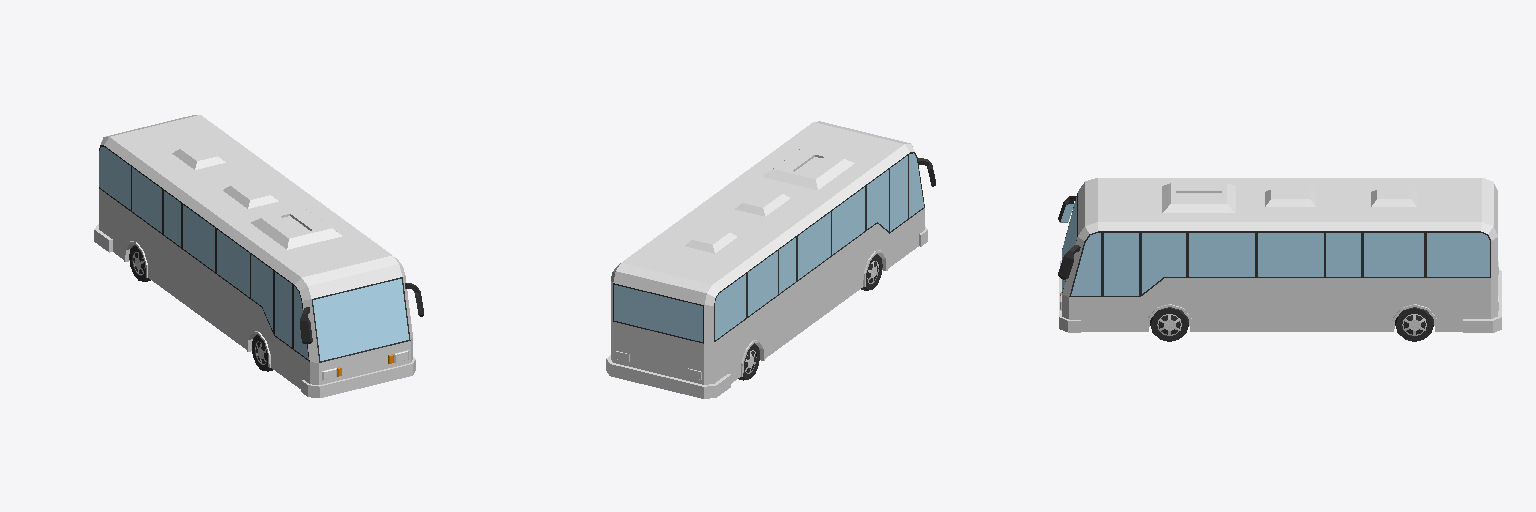
3 renders of one model, left to right at view 1: azimuth 30°, elevation 25°; view 2: azimuth 150°, elevation 25°; view 3: azimuth 270°, elevation 25°, orthographic.
Parts seen in each view (by area): view 1: Bus; view 2: Bus; view 3: Bus.
Part boxes in pixels (left/top/right/bottom): Bus: left=94, top=115, right=423, bottom=397; Bus: left=606, top=121, right=935, bottom=398; Bus: left=1058, top=178, right=1501, bottom=341.
Bounding box in the file's own units: 50.06 × 48.81 × 157.
1 materials, 1 textured.